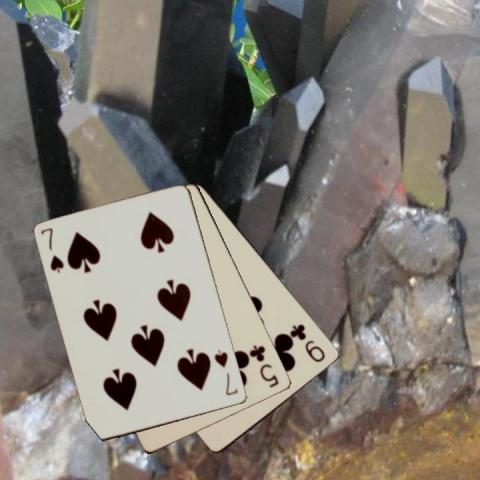5c: (248, 342, 281, 389)
7s: (212, 347, 240, 398), (38, 224, 66, 274)
9c: (290, 321, 328, 364)
